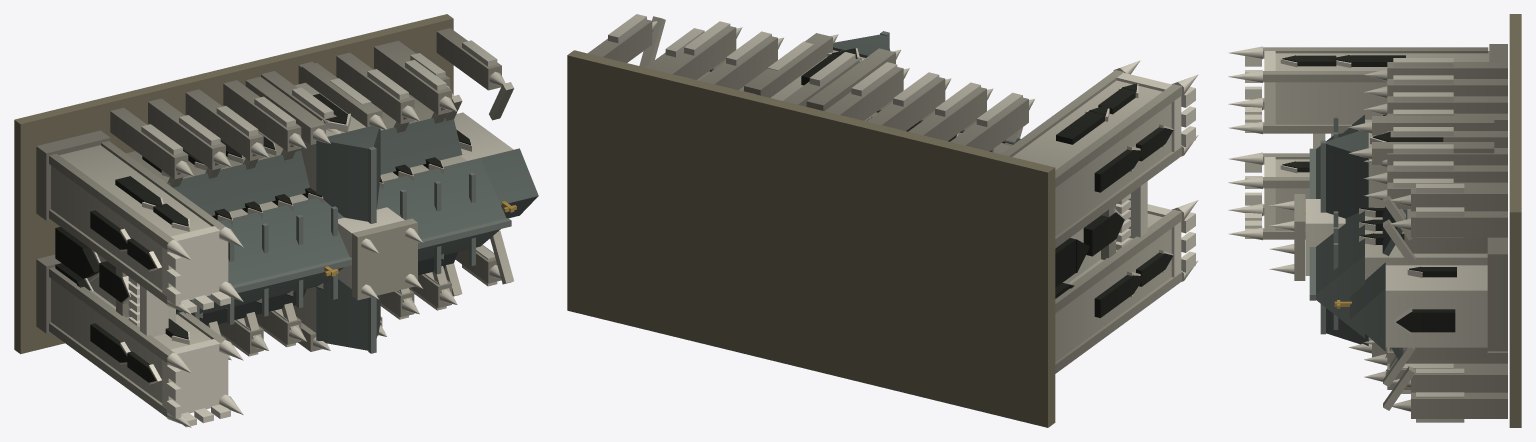
File: westminster-abbey.glb
3 views of the same model, side by side, from view 1: azimuth 30°, elevation 25°; view 2: azimuth 150°, elevation 25°; view 3: azimuth 270°, elevation 25° (orthographic). The views are drawn at different scales.
Visible parts, largest first — view 1: part-stoneShade, part-roof, part-stoneLight, part-stone, part-ground, part-dark, part-roofLight, part-trim; view 2: part-ground, part-stoneShade, part-stone, part-stoneLight, part-dark, part-trim, part-roof; view 3: part-stoneShade, part-stoneLight, part-stone, part-roof, part-ground, part-dark, part-roofLight, part-trim.
Part boxes in pixels (left/top/right/bottom): part-stoneShade: left=36, top=28, right=501, bottom=417; part-roof: left=167, top=118, right=538, bottom=350; part-stoneLight: left=87, top=40, right=513, bottom=427; part-stone: left=51, top=82, right=514, bottom=402; part-ground: left=14, top=14, right=453, bottom=354; part-dark: left=55, top=93, right=470, bottom=382; part-roofLight: left=190, top=147, right=511, bottom=353; part-trim: left=84, top=113, right=471, bottom=384; part-ground: left=567, top=50, right=1055, bottom=427; part-stoneShade: left=588, top=19, right=1181, bottom=373; part-stone: left=639, top=16, right=1171, bottom=361; part-stoneLight: left=608, top=14, right=1198, bottom=282; part-dark: left=801, top=48, right=1173, bottom=317; part-trim: left=827, top=48, right=1173, bottom=297; part-roof: left=709, top=34, right=1020, bottom=144; part-stoneShade: left=1263, top=44, right=1507, bottom=418; part-stoneLight: left=1228, top=46, right=1487, bottom=422; part-stone: left=1275, top=51, right=1489, bottom=410; part-roof: left=1316, top=115, right=1407, bottom=362; part-ground: left=1509, top=14, right=1521, bottom=427; part-dark: left=1282, top=55, right=1456, bottom=332; part-roofLight: left=1309, top=116, right=1338, bottom=334; part-trim: left=1280, top=54, right=1422, bottom=334.
Bounding box in the file's own units: 1.4 × 0.7 × 0.865.
